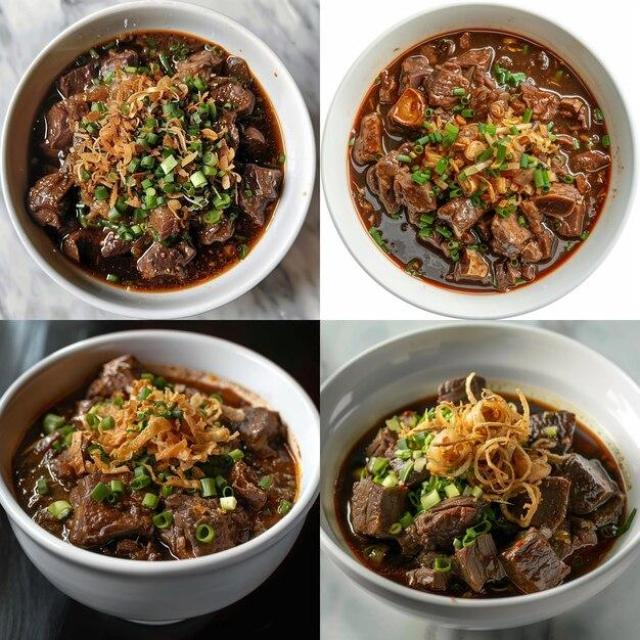Rawon: (352, 37, 602, 284), (352, 401, 624, 582), (20, 363, 292, 543), (50, 41, 273, 248)
